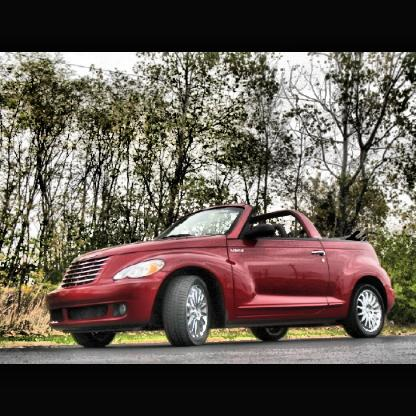Chrysler PT Cruiser Convertible 2008: (25, 199, 403, 359)
